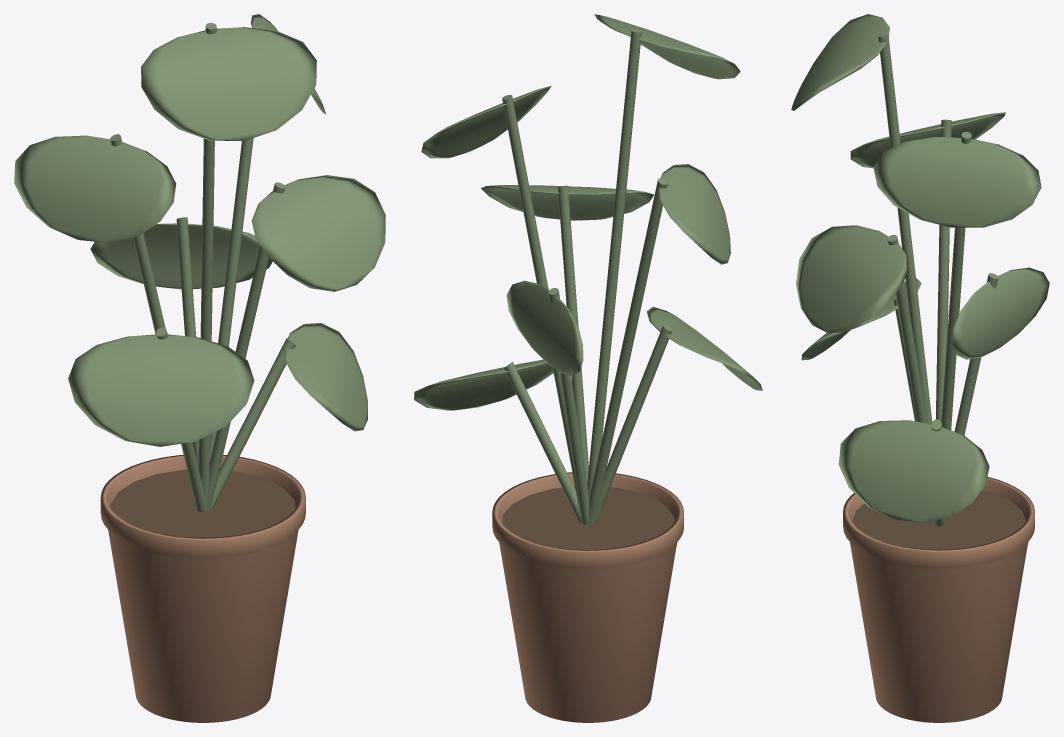
File: monstera.glb
3 views of the same model, side by side, from view 1: azimuth 30°, elevation 25°; view 2: azimuth 150°, elevation 25°; view 3: azimuth 270°, elevation 25° (orthographic). The views are drawn at different scales.
Visible parts, largest first — view 1: planter-hollow-vessel, split-leaf-1, split-leaf-6, split-leaf-4, split-leaf-3, planter-contained-soil, split-leaf-2, split-leaf-0, petiole-6, petiole-5, petiole-3, petiole-0 (+3 smaller); view 2: planter-hollow-vessel, planter-contained-soil, petiole-6, split-leaf-2, split-leaf-4, petiole-4, split-leaf-0, split-leaf-3, split-leaf-5, petiole-5, split-leaf-6, petiole-3 (+4 smaller); view 3: planter-hollow-vessel, split-leaf-0, split-leaf-5, split-leaf-3, planter-contained-soil, split-leaf-2, split-leaf-6, petiole-6, petiole-5, petiole-4, split-leaf-4, petiole-3 (+2 smaller).
Part boxes in pixels (x1,y1,x2,y2): planter-hollow-vessel: (100, 455, 305, 722); split-leaf-1: (68, 334, 254, 446); split-leaf-6: (141, 27, 316, 140); split-leaf-4: (14, 135, 176, 242); split-leaf-3: (251, 175, 385, 291); planter-contained-soil: (110, 469, 295, 537); split-leaf-2: (90, 223, 272, 289); split-leaf-0: (284, 323, 367, 431); petiole-6: (198, 23, 216, 508); petiole-5: (209, 138, 253, 461); petiole-3: (206, 182, 285, 510); petiole-0: (210, 338, 295, 509); planter-hollow-vessel: (492, 472, 683, 722); planter-contained-soil: (502, 486, 674, 549); petiole-6: (587, 29, 641, 498); split-leaf-2: (506, 280, 583, 375); split-leaf-4: (658, 164, 730, 264); petiole-4: (589, 178, 667, 524); split-leaf-0: (414, 359, 553, 410); split-leaf-3: (481, 185, 653, 220); split-leaf-5: (421, 86, 551, 158); petiole-5: (502, 95, 581, 520); split-leaf-6: (594, 14, 740, 79); petiole-3: (558, 185, 588, 484); planter-hollow-vessel: (843, 477, 1034, 722); split-leaf-0: (838, 420, 989, 522); split-leaf-5: (873, 136, 1041, 227); split-leaf-3: (796, 225, 908, 333); planter-contained-soil: (852, 490, 1025, 549); split-leaf-2: (952, 267, 1049, 359); split-leaf-6: (791, 14, 889, 110); petiole-6: (878, 33, 932, 423); petiole-5: (941, 131, 971, 521); petiole-4: (936, 119, 951, 421); split-leaf-4: (850, 112, 1005, 168); petiole-3: (887, 234, 933, 523).
Bounding box in the file's own units: 0.6882 × 1.39 × 0.5008.
